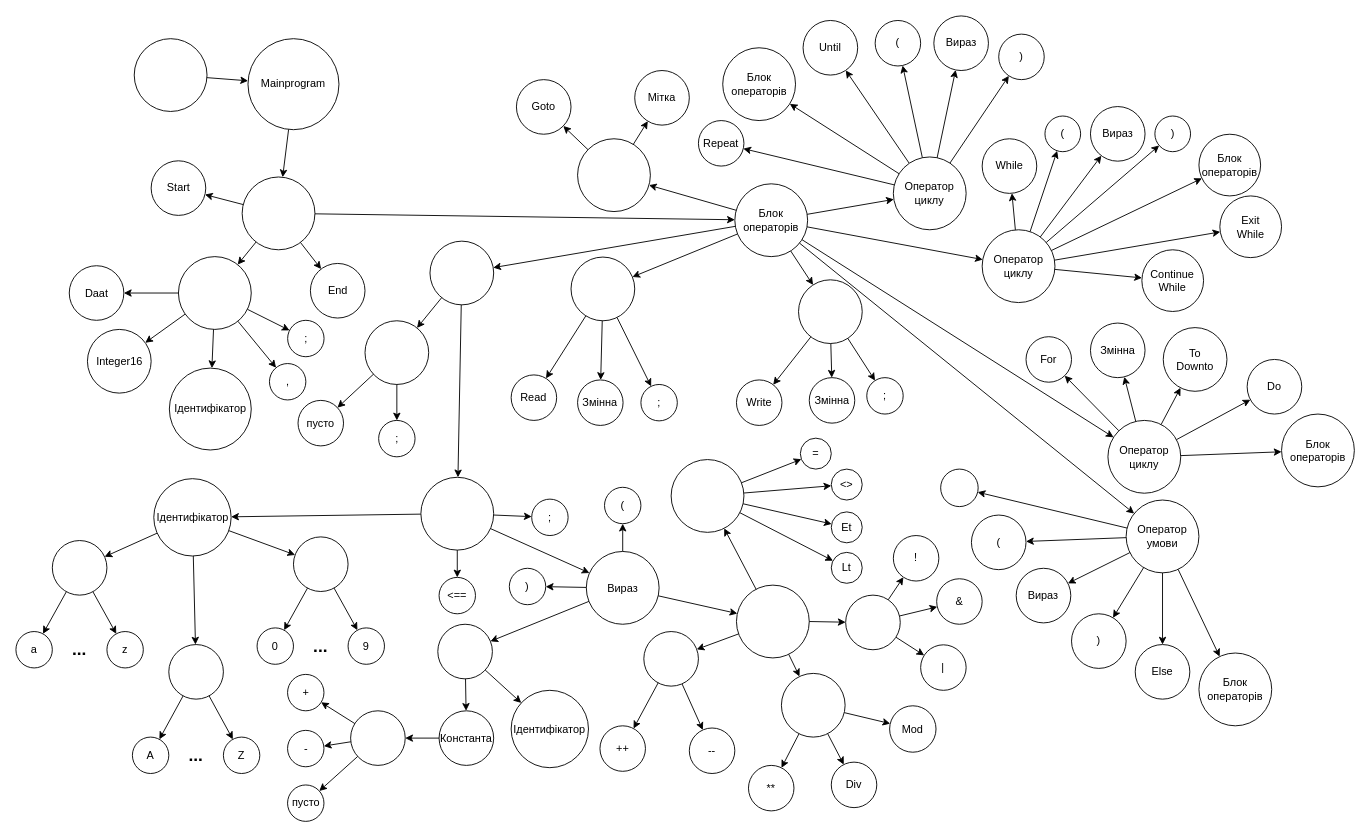
Image size: 1370x838. Some labels were removed from this diagram. Each missing label, with the centre of its shape:
"If" belongs at point (959, 487).
"Адитивна операція" belongs at point (670, 658).
"Блок змінних" belongs at point (214, 292).
"Блок коду" belongs at point (278, 213).
"Велика буква" belongs at point (195, 671).
"Знак" belongs at point (377, 737).
"Логічна операція" belongs at point (872, 622).
"Мала буква" belongs at point (79, 567).
"Мультиплі кативна операція" belongs at point (813, 704).
"Операнд" belongs at point (464, 651).
"Оператор вводу" belongs at point (602, 288).
"Оператор виводу" belongs at point (830, 311).
"Оператор переходу" belongs at point (613, 175).
"Операції" belongs at point (772, 621).
"Операції порівняння" belongs at point (707, 495).
"Основна програма" belongs at point (170, 74).
"Порожній оператор" belongs at point (396, 352).
"Присвоєння" belongs at point (457, 513).
"Простий оператор" belongs at point (461, 272).
"Цифра" belongs at point (320, 564).
